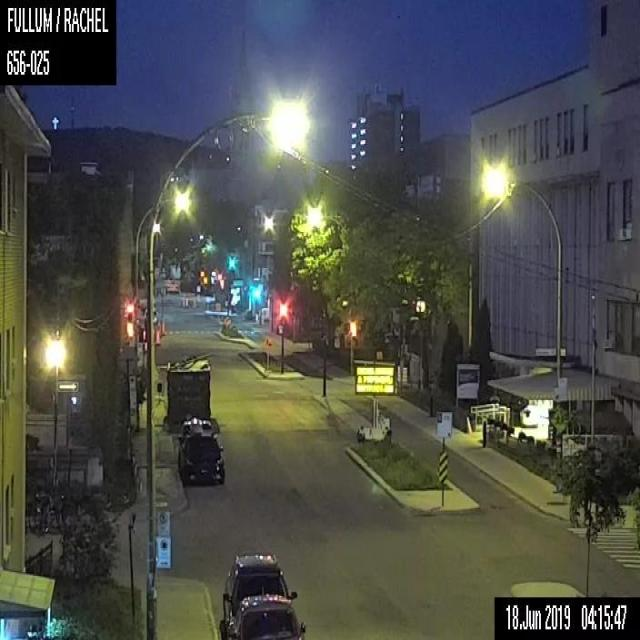construction: (156, 329, 160, 344)
vehicle: (222, 553, 297, 624), (221, 594, 305, 638), (177, 417, 224, 486), (166, 280, 178, 292)
